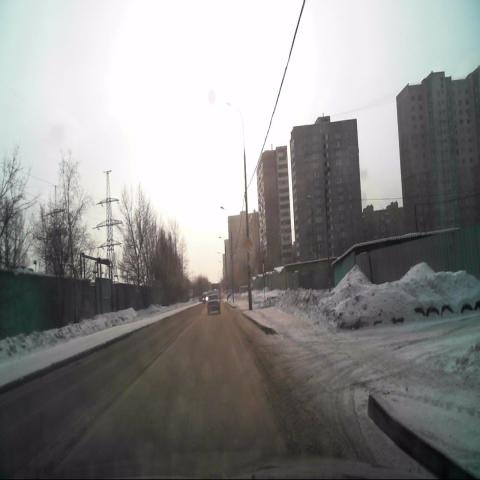2_1: (243, 236, 253, 254)
